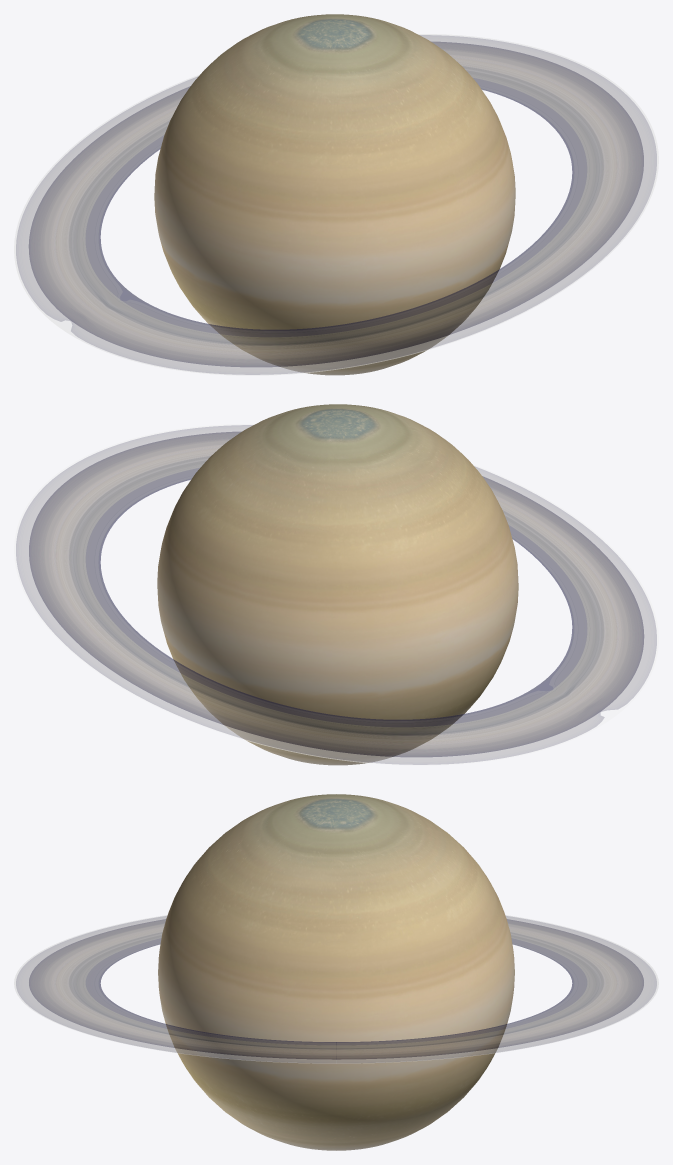
File: saturn.glb
3 views of the same model, one above another, from view 1: azimuth 30°, elevation 25°; view 2: azimuth 150°, elevation 25°; view 3: azimuth 270°, elevation 25° (orthographic).
Visible parts, largest first — view 1: Saturn, saturn_ring_base; view 2: Saturn, saturn_ring_base; view 3: Saturn, saturn_ring_base.
Part boxes in pixels (x1,y1,x2,y2): Saturn: (154,14,515,375); saturn_ring_base: (14,34,658,375); Saturn: (157,404,518,765); saturn_ring_base: (14,424,658,765); Saturn: (158,794,514,1150); saturn_ring_base: (14,915,658,1063).
Bounding box in the file's own units: 3.55 × 2 × 3.61.
2 materials, 2 textured.
